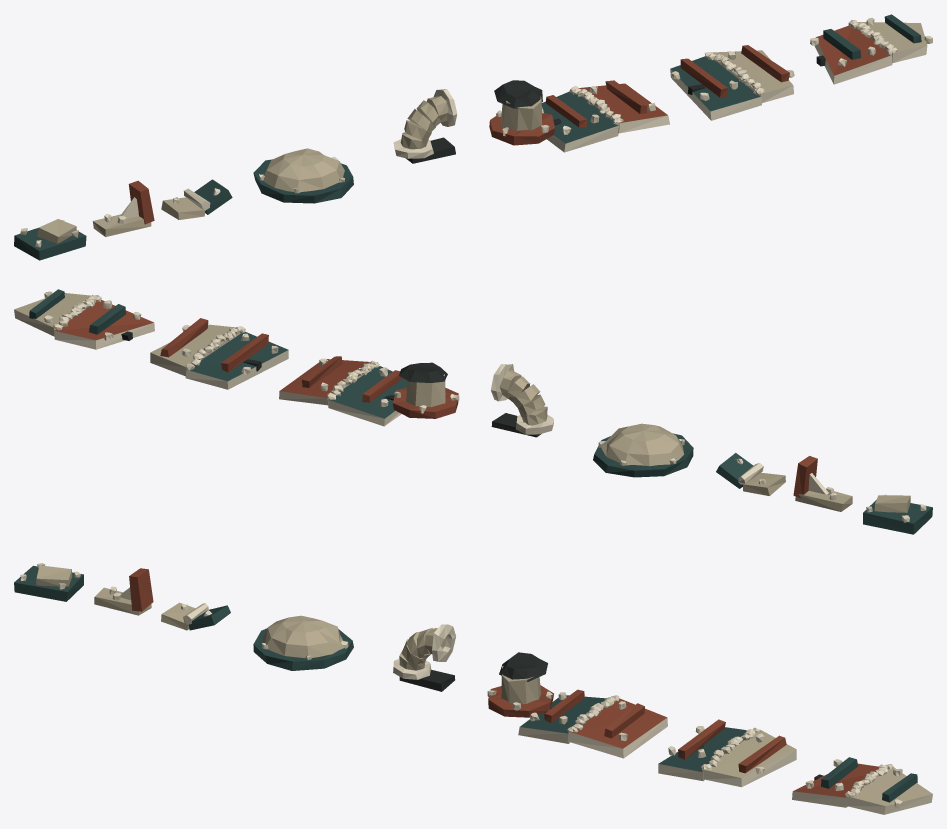
Rendered from chunks.glb.
3 views of the same model, one above another, from view 1: azimuth 30°, elevation 25°; view 2: azimuth 150°, elevation 25°; view 3: azimuth 330°, elevation 25° (orthographic).
Parts seen in each view (by area): view 1: chunk_large_1, chunk_large_0, chunk_large_2, chunk_medium_0, chunk_medium_2, chunk_medium_1, chunk_small_0, chunk_small_1, chunk_small_2; view 2: chunk_large_1, chunk_large_0, chunk_large_2, chunk_medium_0, chunk_medium_2, chunk_medium_1, chunk_small_0, chunk_small_1, chunk_small_2; view 3: chunk_large_0, chunk_large_1, chunk_large_2, chunk_medium_0, chunk_medium_2, chunk_medium_1, chunk_small_0, chunk_small_1, chunk_small_2.
Boxes of the visible parts, x1,y1,x2,y2 form: chunk_large_1: (670, 45, 794, 120); chunk_large_0: (541, 80, 669, 152); chunk_large_2: (810, 14, 932, 84); chunk_medium_0: (253, 148, 353, 203); chunk_medium_2: (489, 80, 554, 145); chunk_medium_1: (393, 89, 457, 163); chunk_small_0: (14, 219, 86, 260); chunk_small_1: (92, 180, 154, 236); chunk_small_2: (161, 179, 232, 219); chunk_large_1: (150, 318, 288, 389); chunk_large_0: (279, 356, 407, 426); chunk_large_2: (14, 289, 154, 349); chunk_medium_0: (593, 423, 693, 477); chunk_medium_2: (393, 362, 459, 418); chunk_medium_1: (491, 364, 553, 437); chunk_small_0: (863, 494, 932, 534); chunk_small_1: (793, 456, 852, 511); chunk_small_2: (716, 453, 785, 495); chunk_large_0: (518, 689, 667, 758); chunk_large_1: (658, 719, 796, 787); chunk_large_2: (792, 757, 932, 814); chunk_medium_0: (253, 615, 353, 670); chunk_medium_2: (487, 652, 553, 717); chunk_medium_1: (393, 624, 455, 691); chunk_small_0: (14, 563, 83, 601); chunk_small_1: (94, 568, 153, 615); chunk_small_2: (161, 602, 230, 630).
Size of the model in its own units: 6.23 by 0.4704 by 0.6617.
